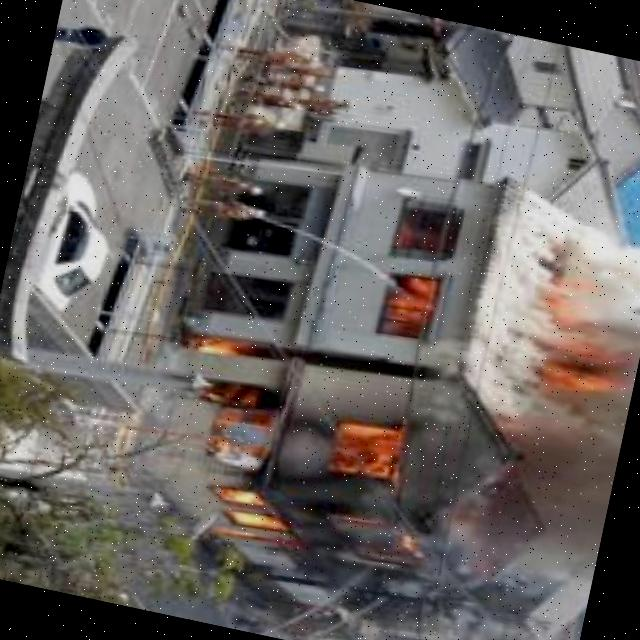fire: (148, 311, 483, 605), (512, 246, 639, 422), (370, 239, 454, 345)
